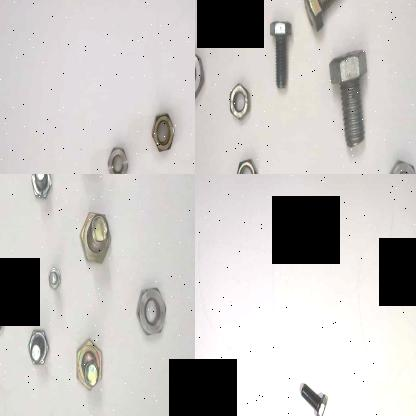Bolts: (330, 42, 373, 152), (76, 210, 116, 268), (268, 15, 296, 97), (301, 0, 355, 35), (72, 339, 104, 397), (299, 373, 331, 416), (26, 329, 52, 370), (28, 174, 55, 209), (46, 259, 64, 295)
NUTS: (132, 274, 172, 344), (227, 78, 255, 130), (149, 112, 177, 152), (195, 47, 211, 105), (382, 151, 416, 174), (234, 149, 263, 174), (105, 144, 129, 174), (0, 286, 12, 338)
